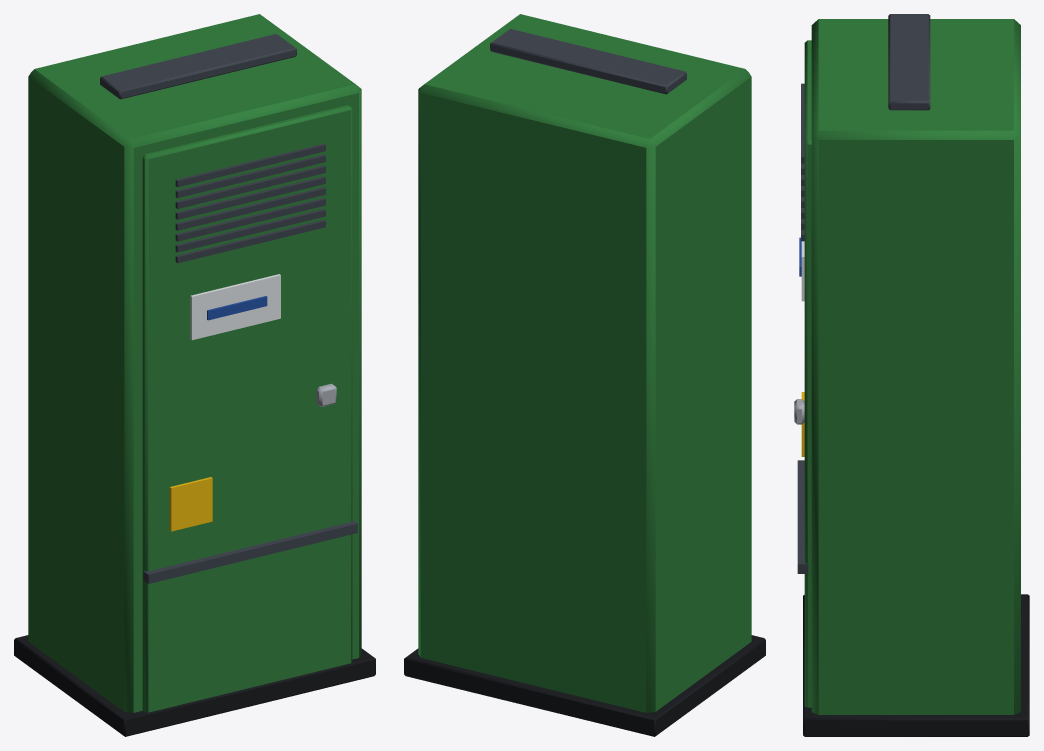
File: cabinet_janitor_closet.glb
3 renders of one model, left to right at view 1: azimuth 30°, elevation 25°; view 2: azimuth 150°, elevation 25°; view 3: azimuth 270°, elevation 25°, orthographic.
Visible parts, largest first — view 1: cabinet_janitor_closet; view 2: cabinet_janitor_closet; view 3: cabinet_janitor_closet.
Part boxes in pixels (left/top/right/bottom): cabinet_janitor_closet: left=14, top=14, right=375, bottom=736; cabinet_janitor_closet: left=404, top=14, right=765, bottom=736; cabinet_janitor_closet: left=794, top=14, right=1029, bottom=736.
Size of the model in its own units: 0.85 by 1.96 by 0.675.
